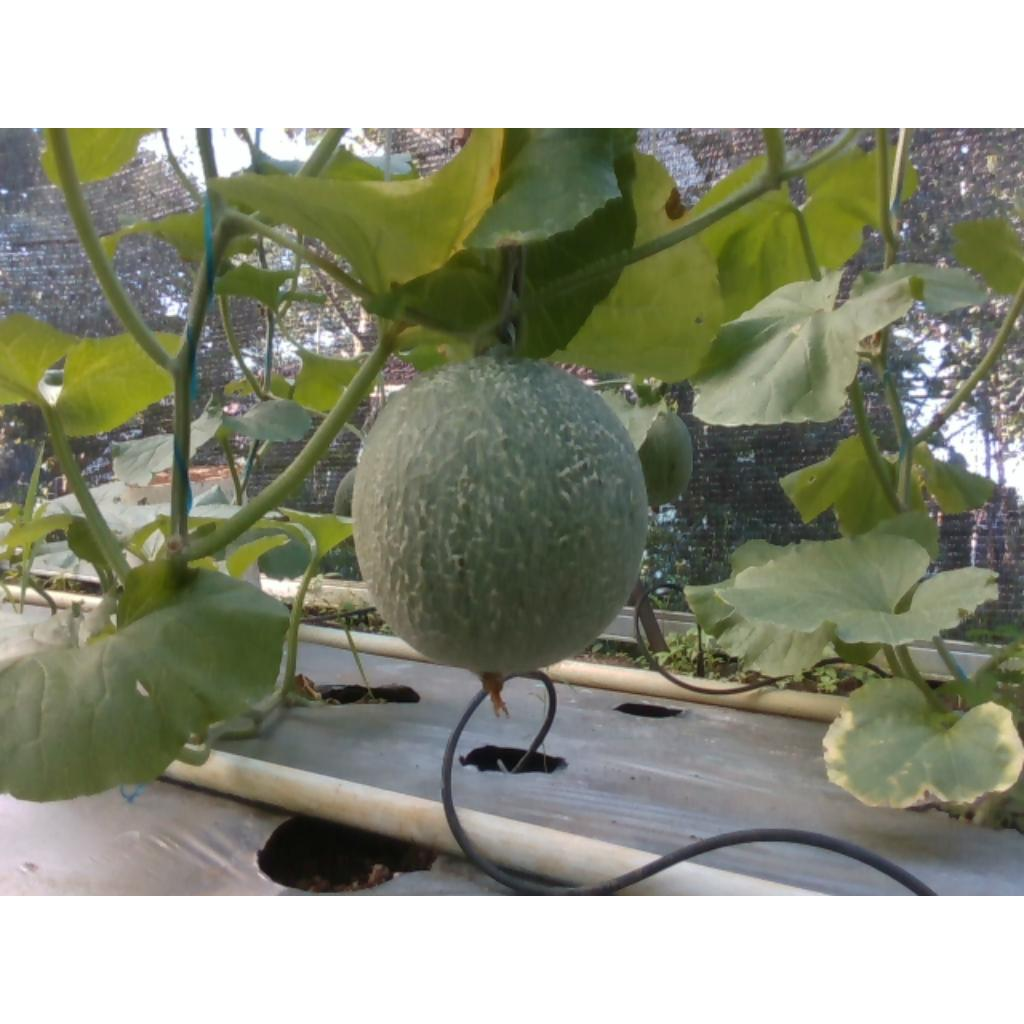melon: (354, 357, 648, 689)
